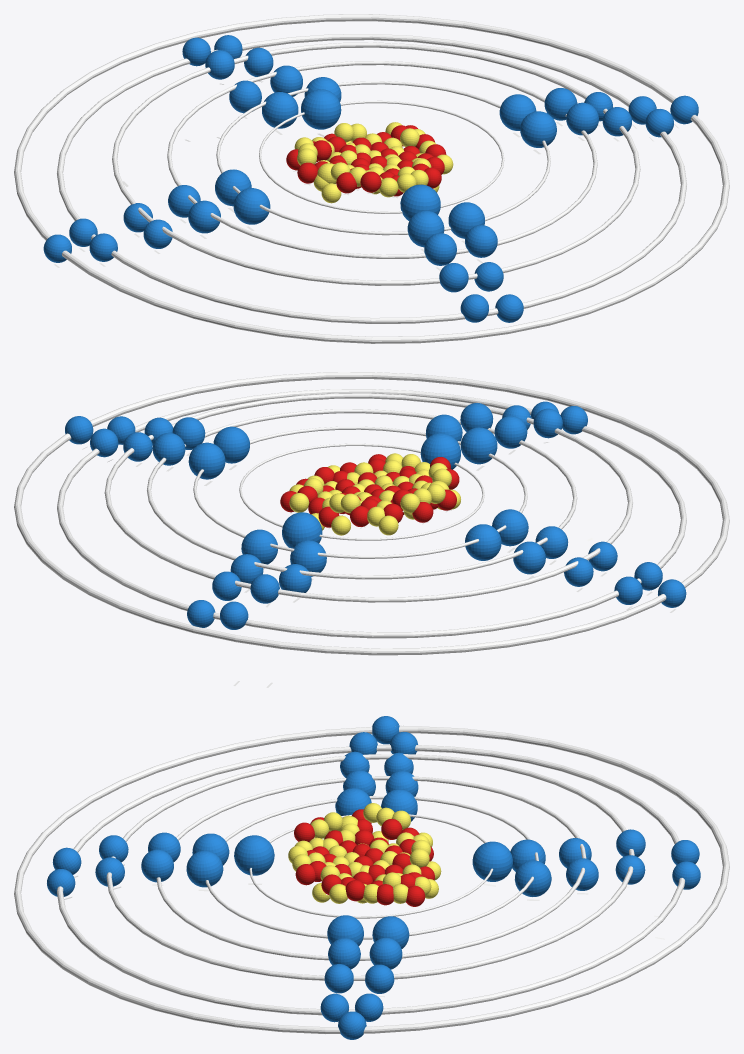
The picture shows the model from 3 angles, top to bottom: view 1: azimuth 30°, elevation 25°; view 2: azimuth 150°, elevation 25°; view 3: azimuth 270°, elevation 25°; orthographic projection.
Parts seen in each view (by area): view 1: Torus.006, Torus.005, Torus.004, Torus.003, Torus.002, Torus.001, g, g.005, g.003, g.001, g.008, g.006 (+27 smaller); view 2: Torus.006, Torus.005, Torus.004, Torus.003, Torus.002, Torus.001, g, g.006, g.004, g.002, g.001, g.003 (+26 smaller); view 3: Torus.006, Torus.005, Torus.004, Torus.003, Torus.002, g.001, g, Torus.001, g.007, g.009, g.015, g.005 (+29 smaller).
Part boxes in pixels (x1,y1,x2,y2): Torus.006: (14,14,729,343); Torus.005: (57,34,686,323); Torus.004: (112,42,640,285); Torus.003: (167,61,597,258); Torus.002: (216,81,550,235); Torus.001: (259,100,504,213); g: (301,89,341,129); g.005: (520,111,556,147); g.003: (233,188,270,224); g.001: (400,184,440,220); g.008: (262,92,298,128); g.006: (407,210,444,247); Torus.006: (14,372,729,655); Torus.005: (57,389,686,638); Torus.004: (104,393,632,602); Torus.003: (147,409,577,579); Torus.002: (193,426,527,558); Torus.001: (239,443,484,540); g: (282,512,322,548); g.006: (460,427,497,464); g.004: (188,442,225,479); g.002: (465,524,501,560); g.001: (420,433,460,469); g.003: (492,509,528,546); Torus.006: (14,726,729,1033); Torus.005: (57,745,684,1015); Torus.004: (106,754,634,980); Torus.003: (156,776,586,960); Torus.002: (205,796,538,939); g.001: (234,835,274,875); g: (472,841,512,881); Torus.001: (249,814,493,918); g.007: (186,850,223,887); g.009: (514,860,551,896); g.015: (141,849,173,882); g.005: (327,915,363,945).
Size of the model in its own units: 17.93 by 2.92 by 17.51.
